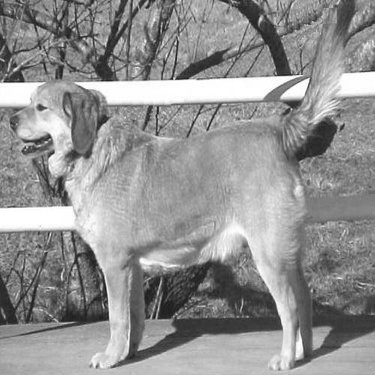dog: (8, 1, 361, 371)
